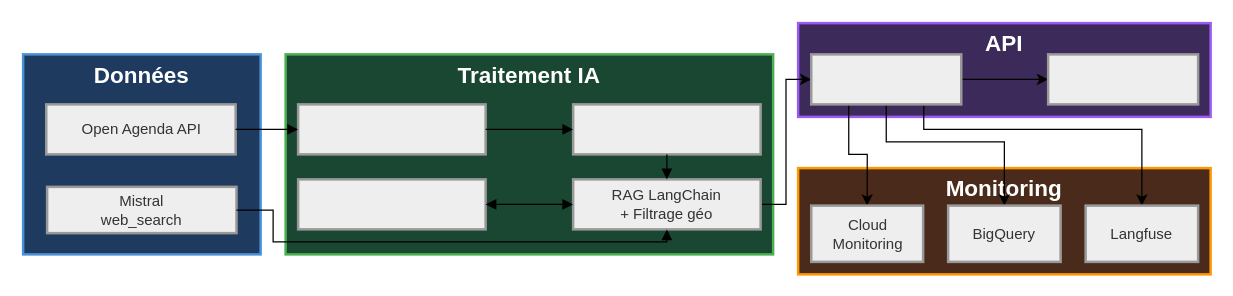
Image size: 1233x296. Some labels were removed from this diagram. Here are the shapes that lost their labels. From the top down, the centre of each, then its label:
(885,78): FastAPI
(1122,78): Streamlit
(391,128): Pipeline ingestion
(666,128): Qdrant
(391,204): Redis
